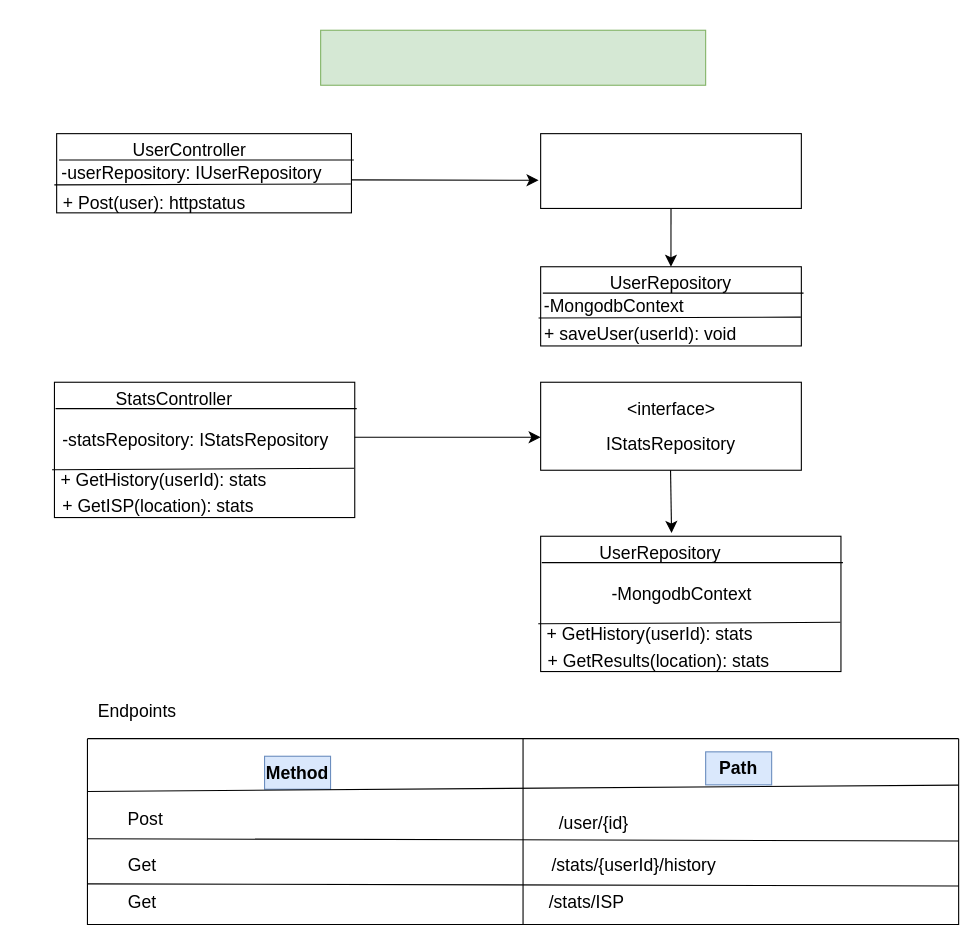
Image size: 979x945. Some labels were removed from this diagram. The shapes that lost their labels are listed below. From the top down, each one's centre as x and y in pixels, then its label:
At point 513,57: "myInternetSpeed".
At point 670,170: "<interface> IUserRepository".
